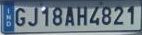character: (76, 5, 88, 26), (51, 6, 62, 26), (14, 7, 25, 26), (27, 7, 38, 26), (64, 6, 74, 26), (89, 5, 99, 25), (101, 5, 111, 25), (113, 6, 123, 25), (41, 5, 49, 27), (127, 5, 134, 25)
